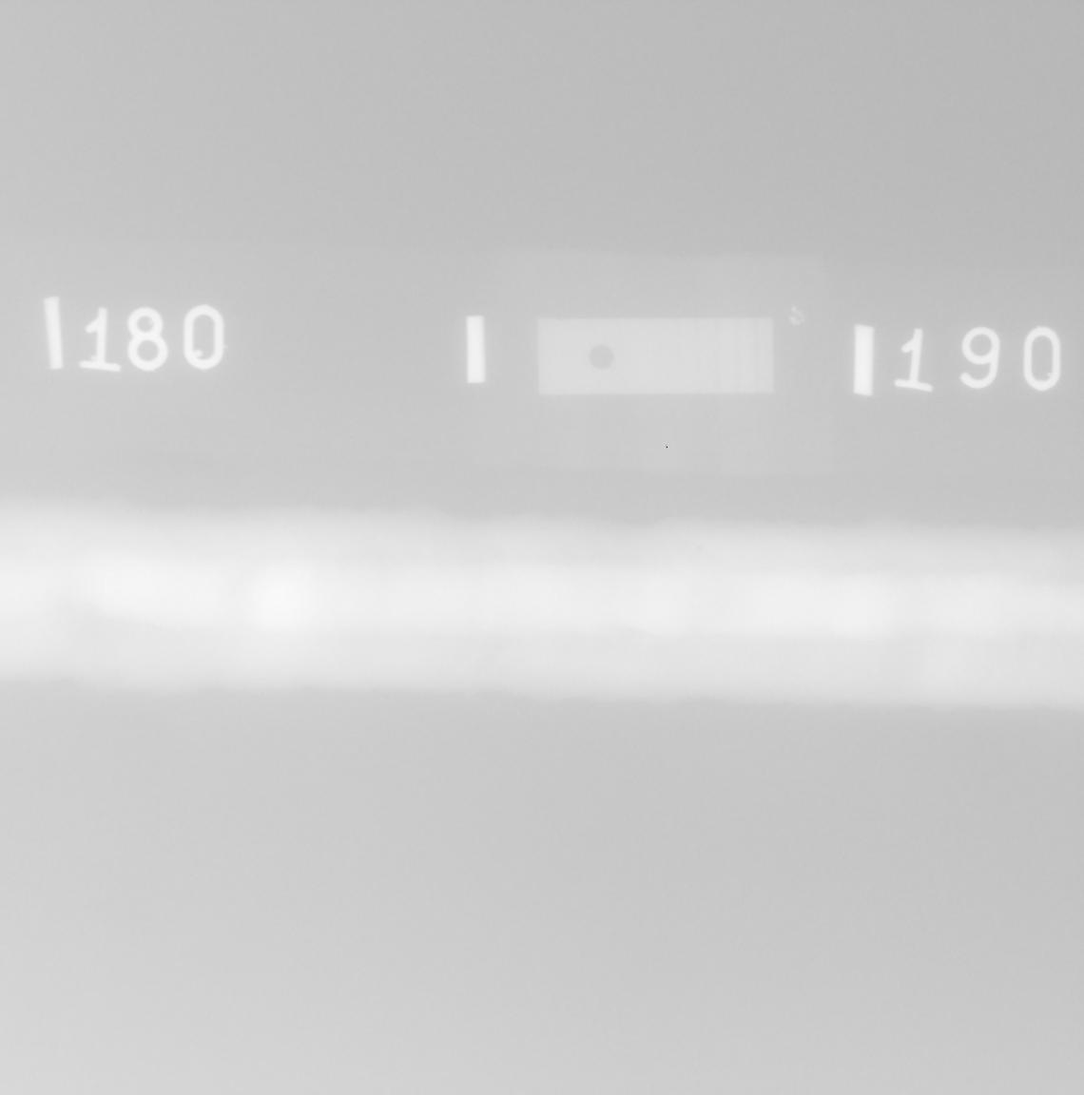Inclusion: (111, 677, 125, 683), (81, 603, 96, 606)
Pore/Porosity: (697, 544, 704, 550)
Reference Standard 1: (537, 318, 773, 393)
